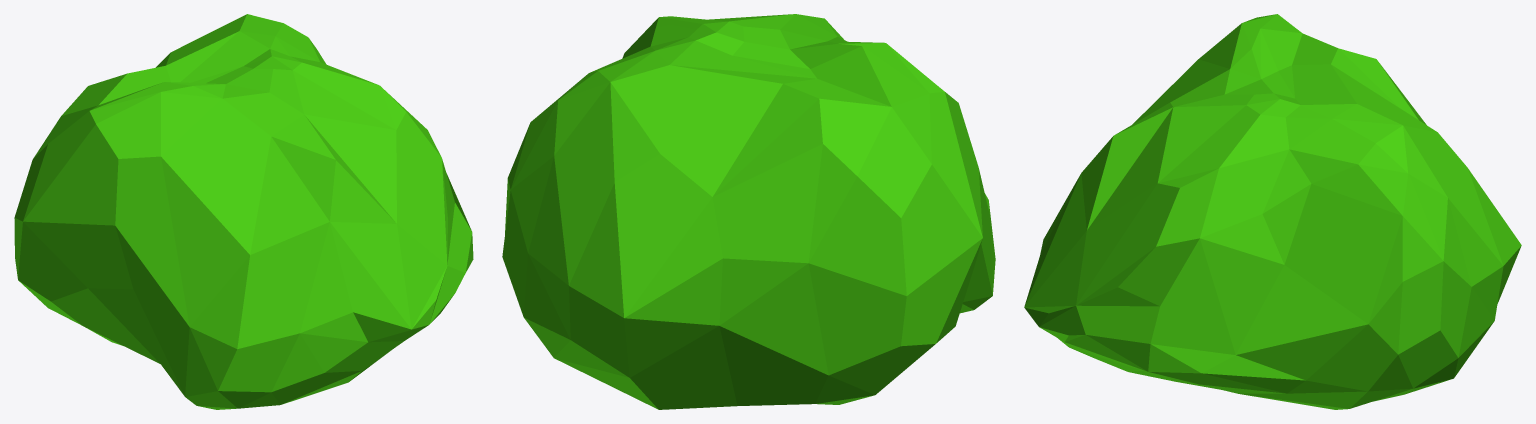
The model's file is lp_tree5_Cube_014.obj.
3 renders of one model, left to right at view 1: azimuth 30°, elevation 25°; view 2: azimuth 150°, elevation 25°; view 3: azimuth 270°, elevation 25°, orthographic. The views are drawn at different scales.
Visible parts, largest first — view 1: lp_tree5_Cube_014; view 2: lp_tree5_Cube_014; view 3: lp_tree5_Cube_014.
Boxes of the visible parts, x1,y1,x2,y2 form: lp_tree5_Cube_014: (14, 14, 473, 409); lp_tree5_Cube_014: (502, 14, 995, 409); lp_tree5_Cube_014: (1024, 14, 1521, 409).
Bounding box in the file's own units: 7.16 × 5.29 × 7.71.
